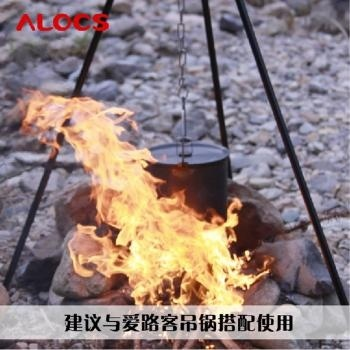fire: (49, 86, 252, 303)
